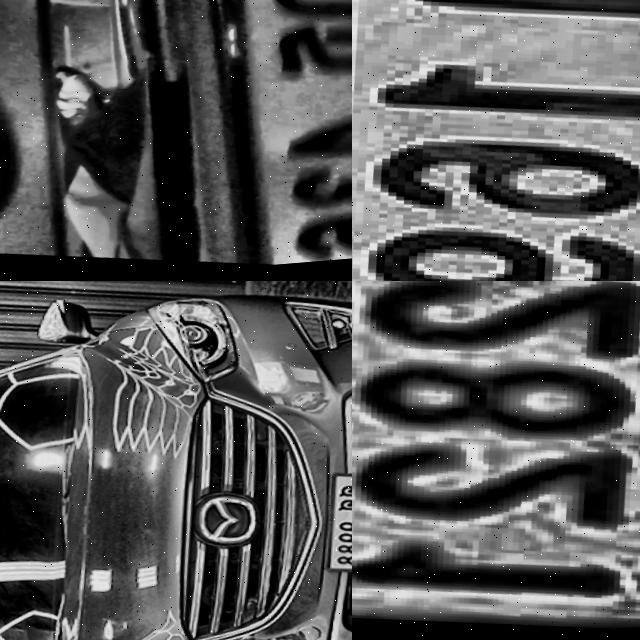license-plate: (352, 281, 640, 640), (352, 0, 640, 281), (309, 475, 352, 587)
